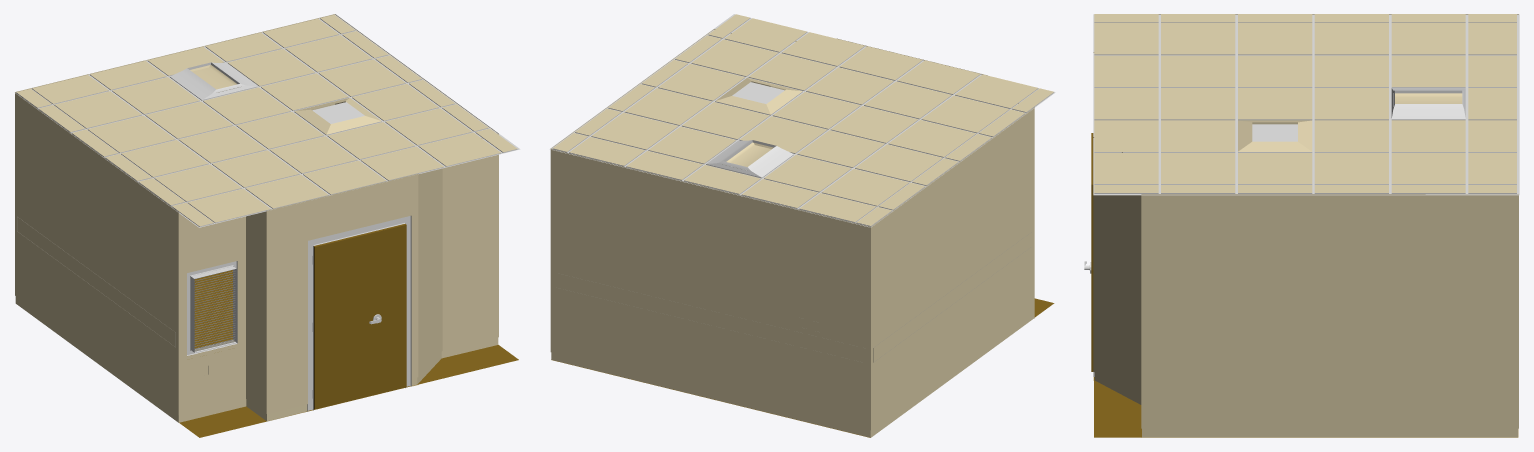
File: MdClst_Walls.fbx
The picture shows the model from 3 angles, left to right: view 1: azimuth 30°, elevation 25°; view 2: azimuth 150°, elevation 25°; view 3: azimuth 270°, elevation 25°; orthographic projection. The views are drawn at different scales.
Visible parts, largest first — view 1: Walls, Ceiling, Door_Entrance, Floor, Blinds_Small; view 2: Walls, Ceiling, Floor; view 3: Walls, Ceiling, Floor.
Boxes of the visible parts, x1,y1,x2,y2 form: Walls: (15, 14, 498, 422); Ceiling: (14, 14, 520, 227); Door_Entrance: (314, 229, 383, 409); Floor: (179, 270, 518, 437); Blinds_Small: (194, 269, 235, 351); Walls: (550, 29, 1034, 437); Ceiling: (549, 14, 1055, 227); Floor: (552, 298, 1054, 437); Walls: (1091, 14, 1518, 437); Ceiling: (1093, 14, 1519, 195); Floor: (1094, 377, 1518, 437).
Bounding box in the file's own units: 14.22 × 9.17 × 14.45.
